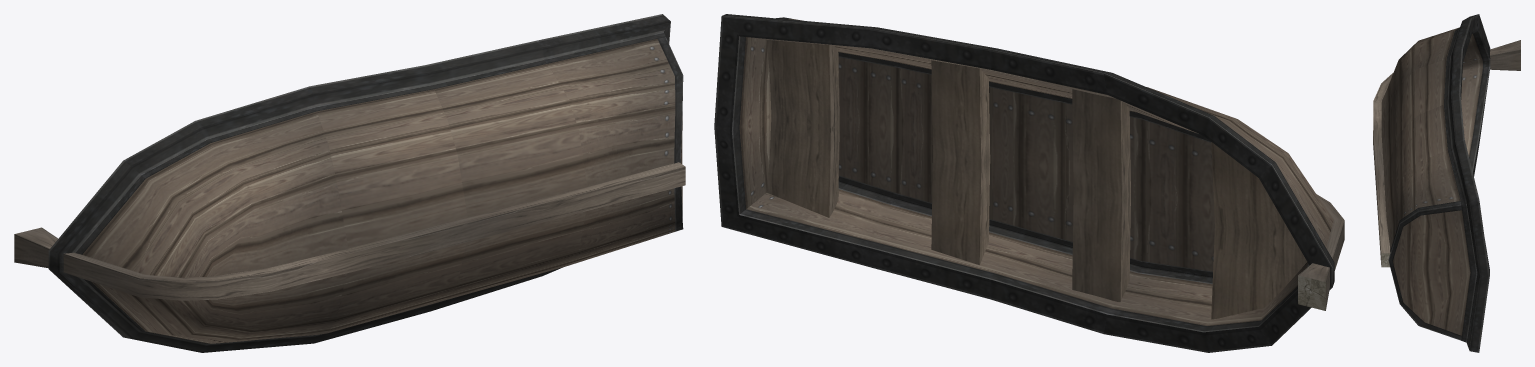
Rendered from Boat_Small_B.fbx.
The picture shows the model from 3 angles, left to right: view 1: azimuth 30°, elevation 25°; view 2: azimuth 150°, elevation 25°; view 3: azimuth 270°, elevation 25°; orthographic projection. The views are drawn at different scales.
Visible parts, largest first — view 1: Boat_Small_B; view 2: Boat_Small_B; view 3: Boat_Small_B.
Boxes of the visible parts, left/top/right/bottom form: Boat_Small_B: left=14, top=14, right=685, bottom=352; Boat_Small_B: left=714, top=14, right=1344, bottom=352; Boat_Small_B: left=1373, top=14, right=1520, bottom=352.
Size of the model in its own units: 7.34 by 2.88 by 2.03.
